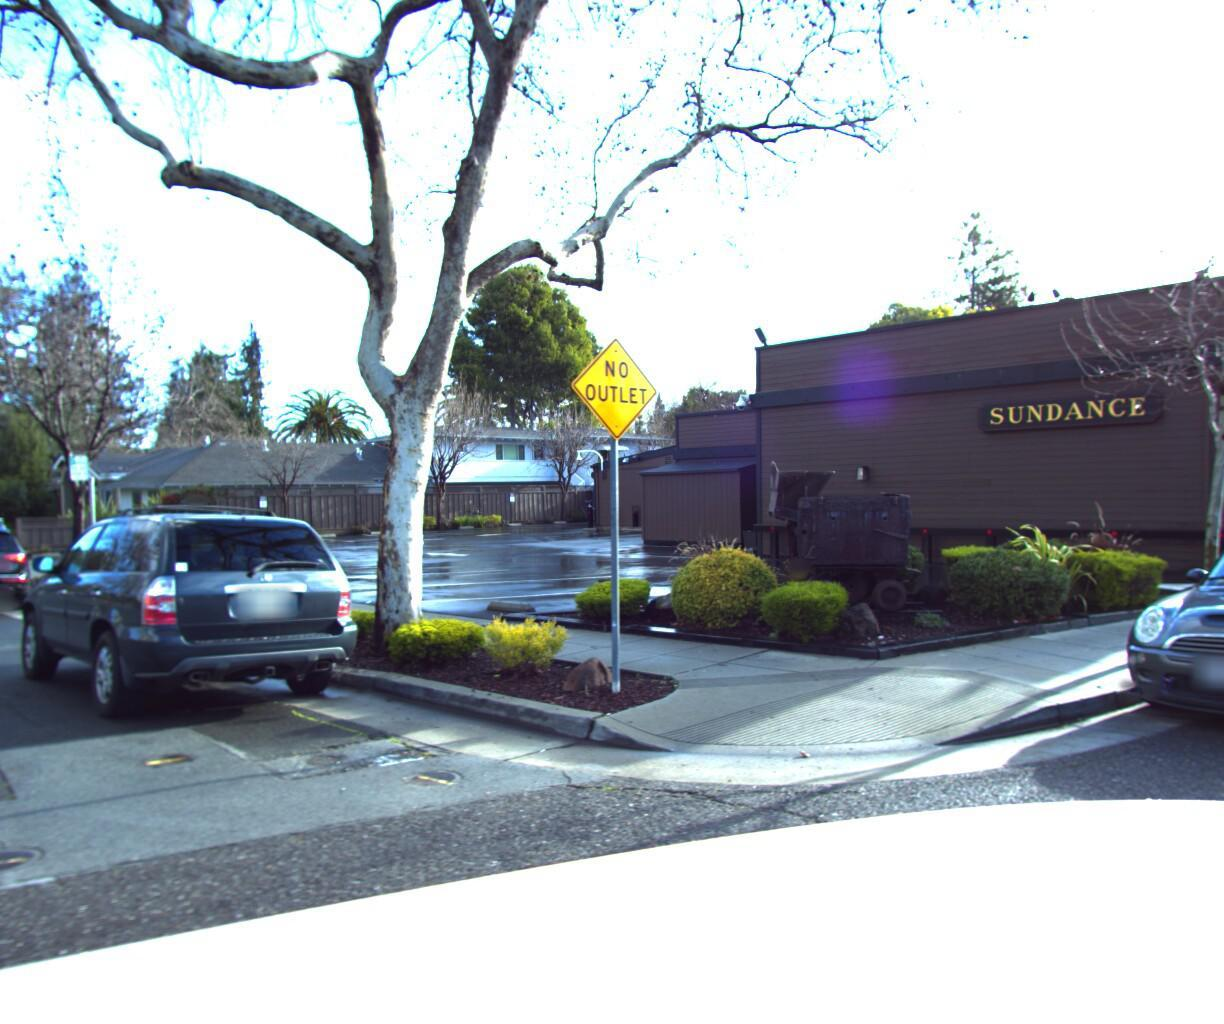car: (0, 499, 383, 773), (1094, 497, 1224, 794), (0, 506, 45, 626)
